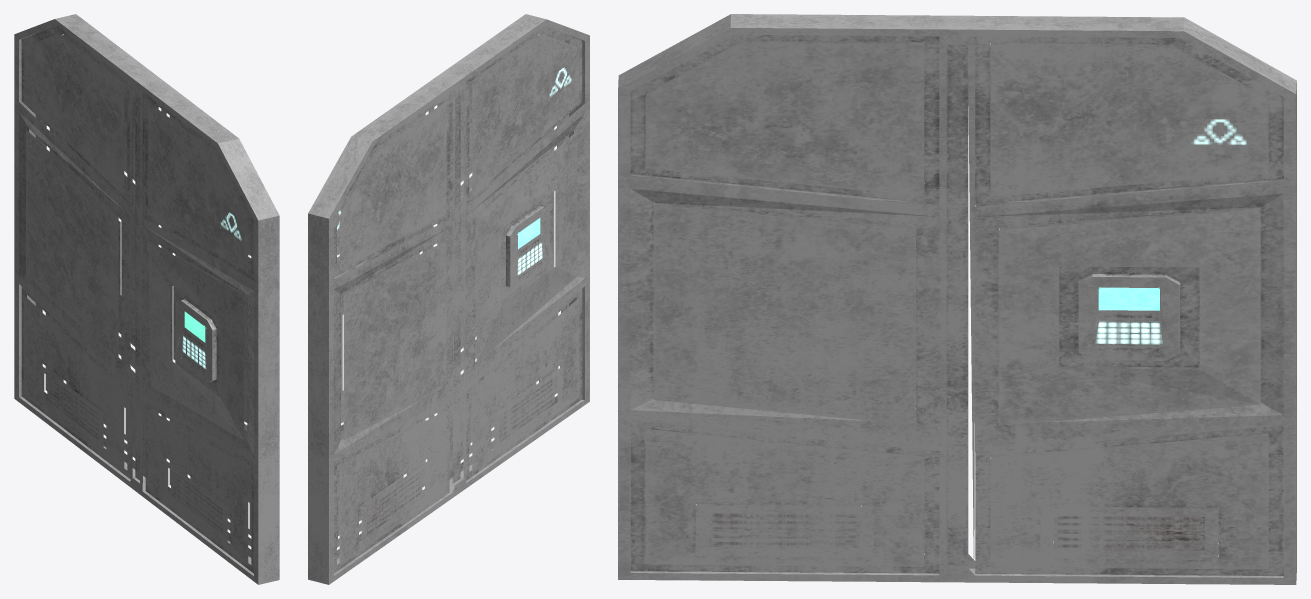
The model's file is map3door.glb.
3 views of the same model, side by side, from view 1: azimuth 30°, elevation 25°; view 2: azimuth 150°, elevation 25°; view 3: azimuth 270°, elevation 25° (orthographic). The views are drawn at different scales.
Parts seen in each view (by area): view 1: Puerta; view 2: Puerta; view 3: Puerta.
Boxes of the visible parts, box(x1,y1,x2,y2) form: Puerta: box(14, 14, 279, 584); Puerta: box(308, 14, 589, 584); Puerta: box(618, 14, 1296, 584).
Bounding box in the file's own units: 0.3157 × 3.57 × 3.98.
Materials: 1 (1 with a texture image).
